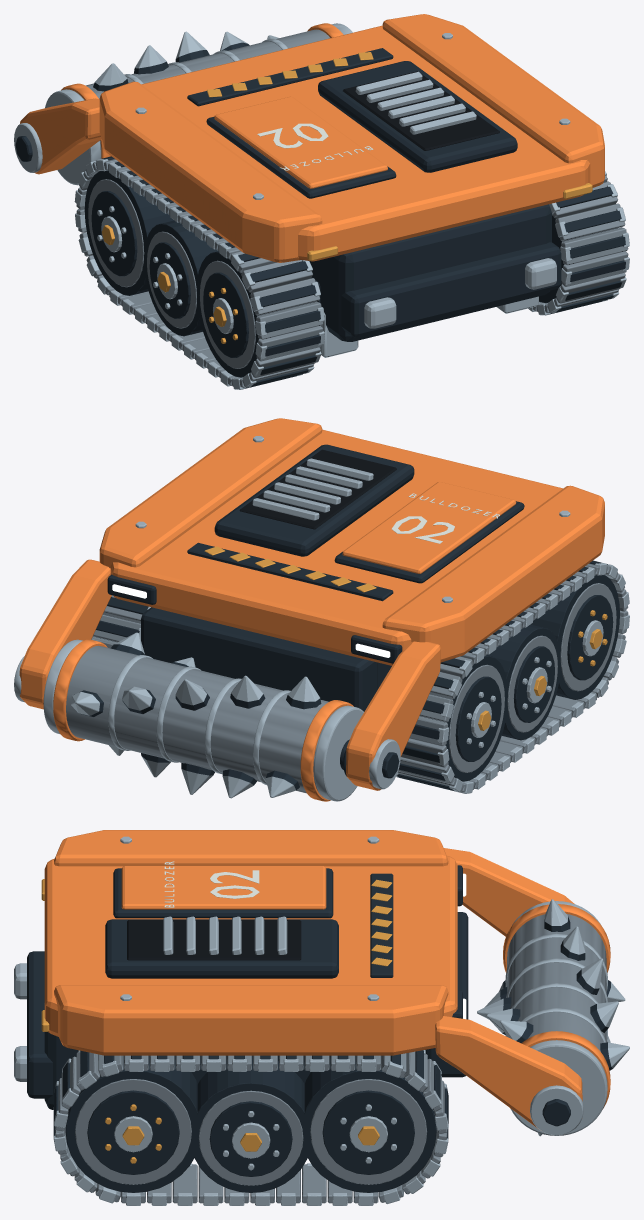
File: bulldozer_v05_tracks.glb
3 renders of one model, top to bottom at view 1: azimuth 30°, elevation 25°; view 2: azimuth 150°, elevation 25°; view 3: azimuth 270°, elevation 25°, orthographic. The views are drawn at different scales.
Parts seen in each view (by area): view 1: ChassisMesh, WeaponMesh, Wheel_FL_Mesh, Idler_L_Mesh, Wheel_RL_Mesh, TrackLink_L13_Mesh, TrackLink_R13_Mesh, TrackLink_R12_Mesh, TrackLink_L12_Mesh, TrackLink_L11_Mesh, TrackLink_L14_Mesh, TrackLink_R14_Mesh (+6 smaller); view 2: ChassisMesh, WeaponMesh, Wheel_RL_Mesh, Wheel_FL_Mesh, Idler_L_Mesh, TrackLink_L31_Mesh, TrackLink_R33_Mesh, TrackLink_L32_Mesh, TrackLink_L30_Mesh, TrackLink_R34_Mesh, TrackLink_L33_Mesh, TrackLink_L34_Mesh (+2 smaller); view 3: ChassisMesh, WeaponMesh, Wheel_RR_Mesh, Wheel_FR_Mesh, Idler_R_Mesh, TrackLink_R25_Mesh, TrackLink_R20_Mesh, TrackLink_R34_Mesh, TrackLink_R11_Mesh, TrackLink_R12_Mesh, TrackLink_R33_Mesh, TrackLink_R21_Mesh (+2 smaller).
Boxes of the visible parts, x1,y1,x2,y2 form: ChassisMesh: (14,14,604,357); WeaponMesh: (45,23,352,185); Wheel_FL_Mesh: (84,170,173,295); Idler_L_Mesh: (144,220,218,336); Wheel_RL_Mesh: (196,251,311,377); TrackLink_L13_Mesh: (255,301,324,339); TrackLink_R13_Mesh: (560,227,629,265); TrackLink_R12_Mesh: (555,203,625,241); TrackLink_L12_Mesh: (250,278,320,315); TrackLink_L11_Mesh: (241,260,312,292); TrackLink_L14_Mesh: (255,325,324,361); TrackLink_R14_Mesh: (561,251,629,286); ChassisMesh: (14,418,604,790); WeaponMesh: (43,632,363,801); Wheel_RL_Mesh: (531,575,619,699); Wheel_FL_Mesh: (420,655,508,781); Idler_L_Mesh: (486,624,559,740); TrackLink_L31_Mesh: (401,738,449,767); TrackLink_R33_Mesh: (93,614,140,642); TrackLink_L32_Mesh: (409,716,448,746); TrackLink_L30_Mesh: (398,757,454,783); TrackLink_R34_Mesh: (103,595,150,623); TrackLink_L33_Mesh: (419,694,453,722); TrackLink_L34_Mesh: (429,672,462,699); ChassisMesh: (14,830,583,1135); WeaponMesh: (477,899,629,1136); Wheel_RR_Mesh: (65,1055,199,1192); Wheel_FR_Mesh: (302,1055,436,1192); Idler_R_Mesh: (191,1055,310,1192); TrackLink_R25_Mesh: (302,1163,326,1205); TrackLink_R20_Mesh: (172,1163,197,1205); TrackLink_R34_Mesh: (404,1050,427,1091); TrackLink_R11_Mesh: (76,1050,99,1090); TrackLink_R12_Mesh: (61,1056,80,1109); TrackLink_R33_Mesh: (423,1058,441,1111); TrackLink_R21_Mesh: (198,1166,223,1205).
Bounding box in the file's own units: 1.7 × 0.8372 × 2.27.
